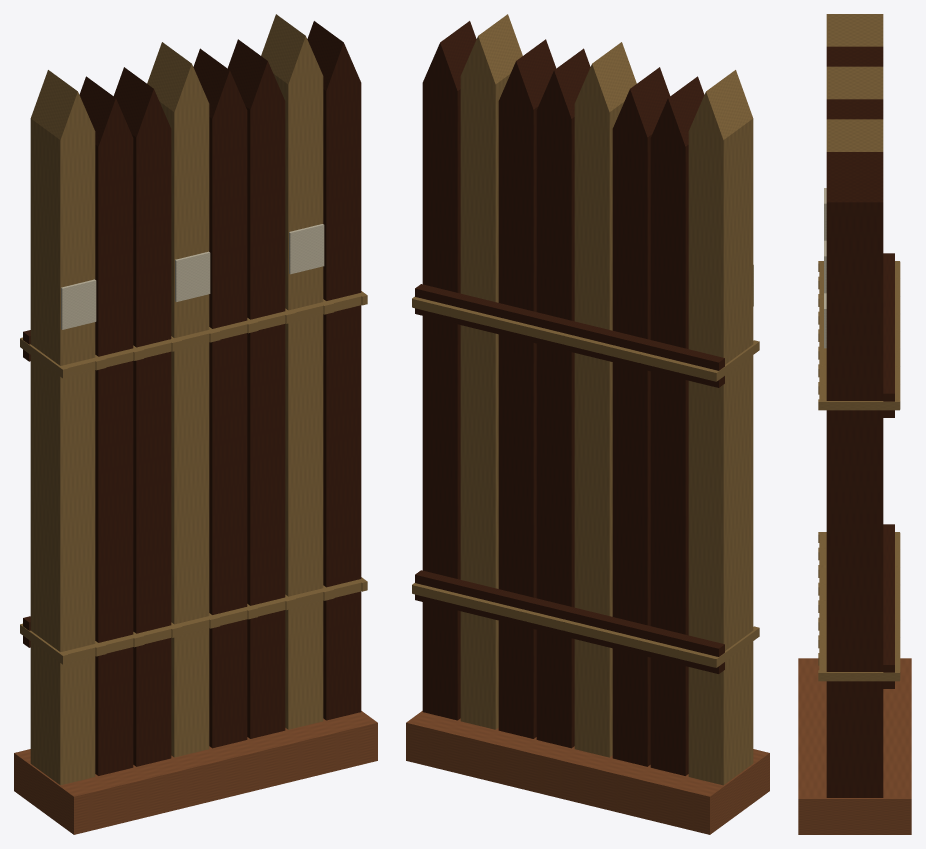
The model's file is Berber_Palisade_Age1_gapfill_2m.fbx.
3 renders of one model, left to right at view 1: azimuth 30°, elevation 25°; view 2: azimuth 150°, elevation 25°; view 3: azimuth 270°, elevation 25°, orthographic. The views are drawn at different scales.
Parts seen in each view (by area): view 1: palm_split_post.025, palm_split_post.024, palm_split_post.026, palm_split_post.031, palm_split_post.028, palm_split_post.030, palm_split_post.027, earth_seat.004, front_lashing.004, neutral_owner_painted_stripe.004, lashing_side.004; view 2: palm_split_post.025, palm_split_post.024, palm_split_post.030, palm_split_post.027, palm_split_post.026, palm_split_post.028, palm_split_post.031, earth_seat.004, continuous_rear_tie.004, back_lashing.004, lashing_side.004; view 3: palm_split_post.031, earth_seat.004, continuous_rear_tie.004, lashing_side.004, palm_split_post.027, palm_split_post.024, palm_split_post.030, front_lashing.004, back_lashing.004, palm_split_post.025, palm_split_post.028, neutral_owner_painted_stripe.004.
Part boxes in pixels (x1,y1,x2,y2): palm_split_post.025: (79,39,285,775); palm_split_post.024: (30,70,95,785); palm_split_post.026: (113,67,171,766); palm_split_post.031: (307,21,361,720); palm_split_post.028: (193,48,247,748); palm_split_post.030: (261,14,323,729); palm_split_post.027: (147,42,209,757); earth_seat.004: (14,711,377,834); front_lashing.004: (61,292,365,662); neutral_owner_painted_stripe.004: (61,224,324,329); lashing_side.004: (20,291,367,664); palm_split_post.025: (498,39,704,775); palm_split_post.024: (688,70,753,785); palm_split_post.030: (460,14,522,729); palm_split_post.027: (574,42,636,757); palm_split_post.026: (612,67,670,766); palm_split_post.028: (536,48,590,748); palm_split_post.031: (422,21,476,720); earth_seat.004: (406,711,769,834); continuous_rear_tie.004: (415,284,724,673); back_lashing.004: (412,297,717,667); lashing_side.004: (412,296,759,667); palm_split_post.031: (826,152,883,797); earth_seat.004: (798,658,911,834); continuous_rear_tie.004: (883,253,894,688); lashing_side.004: (818,261,899,681); palm_split_post.027: (826,66,883,99); palm_split_post.024: (826,14,883,46); palm_split_post.030: (826,119,883,151); front_lashing.004: (819,261,826,670); back_lashing.004: (895,261,900,680); palm_split_post.025: (826,46,883,119); palm_split_post.028: (826,99,883,116); neutral_owner_painted_stripe.004: (824,188,826,348).
Bounding box in the file's own units: 201 × 458 × 68.29.
4 materials, 4 textured.
